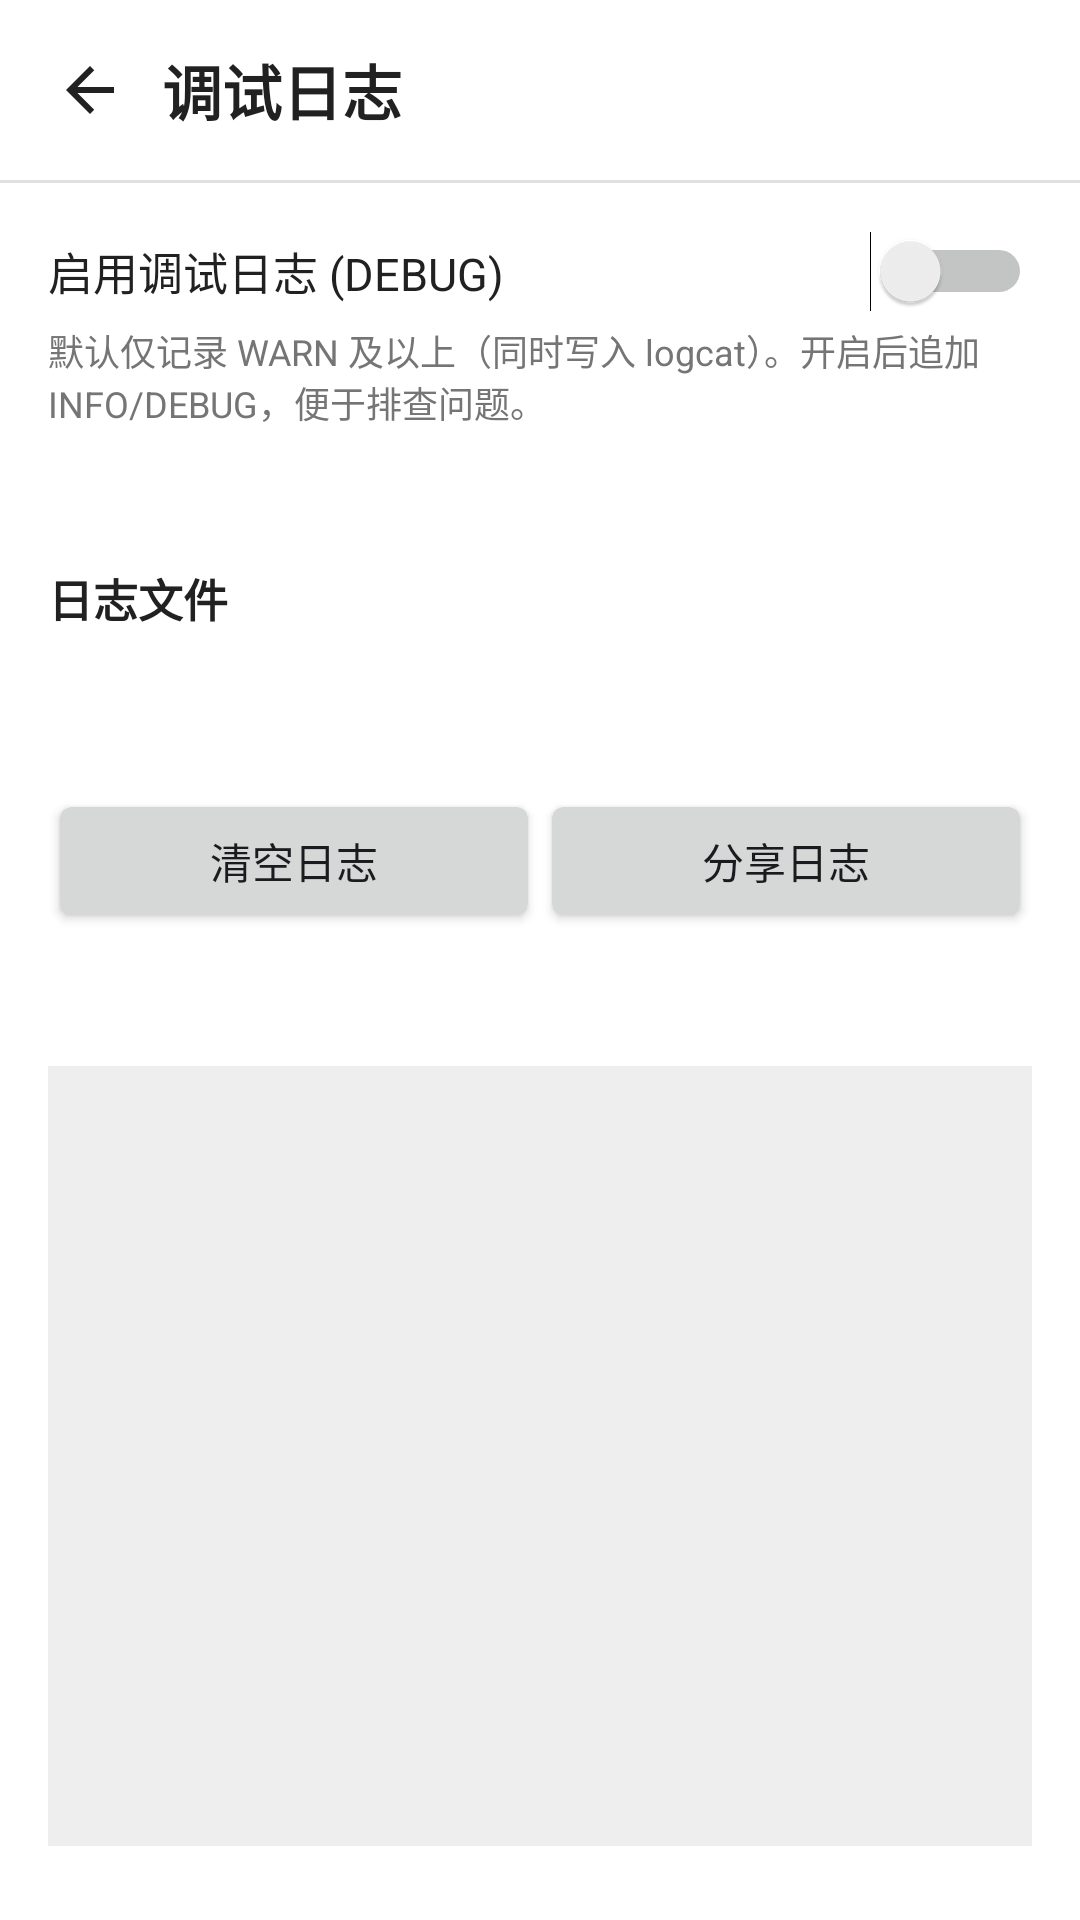

Point at icon controls on the screen. Image size 1080*1920, points as (x=x, y=y).
返回: (x=90, y=90)
